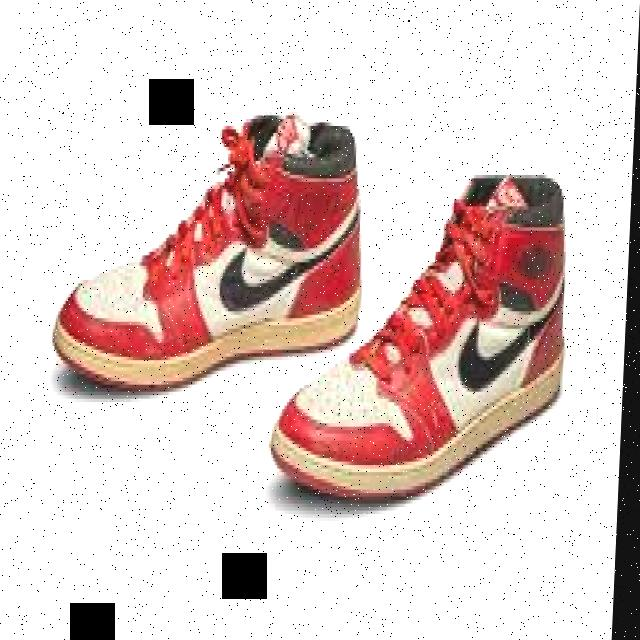shoes: (43, 107, 591, 519), (270, 170, 580, 507), (54, 109, 373, 397)
